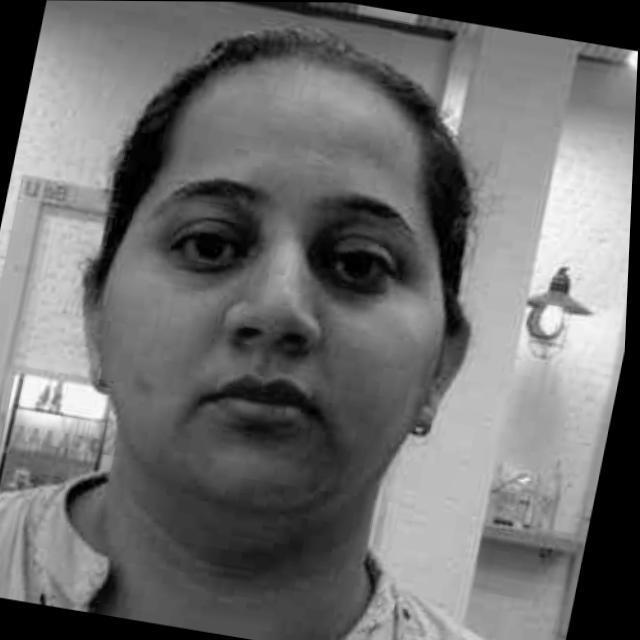puffy_eyes: (309, 261, 397, 303), (177, 258, 252, 288)
